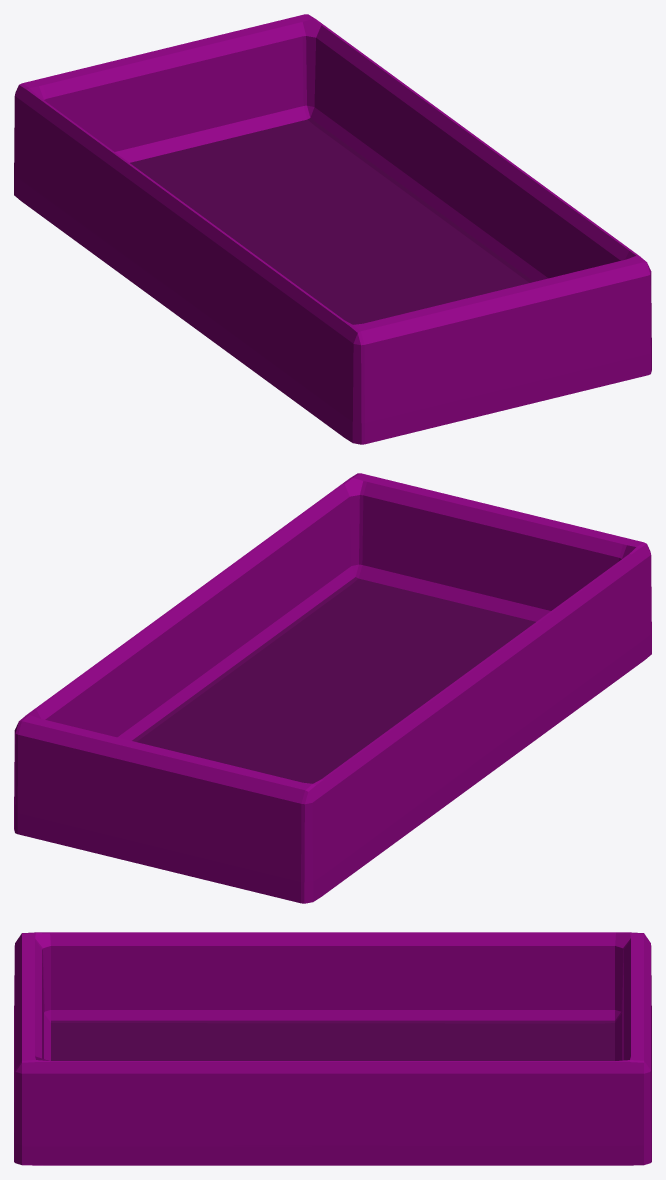
Rendered from table.fbx.
The picture shows the model from 3 angles, top to bottom: view 1: azimuth 30°, elevation 25°; view 2: azimuth 150°, elevation 25°; view 3: azimuth 270°, elevation 25°; orthographic projection. The views are drawn at different scales.
Visible parts, largest first — view 1: Cube.001; view 2: Cube.001; view 3: Cube.001.
Boxes of the visible parts, x1=… form: Cube.001: x1=14, y1=14, x2=651, y2=444; Cube.001: x1=14, y1=473, x2=651, y2=903; Cube.001: x1=14, y1=932, x2=651, y2=1165.
Size of the model in its own units: 800 by 281 by 1600.
